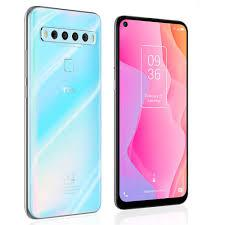Smartphone: (23, 7, 102, 218), (114, 22, 186, 214)
